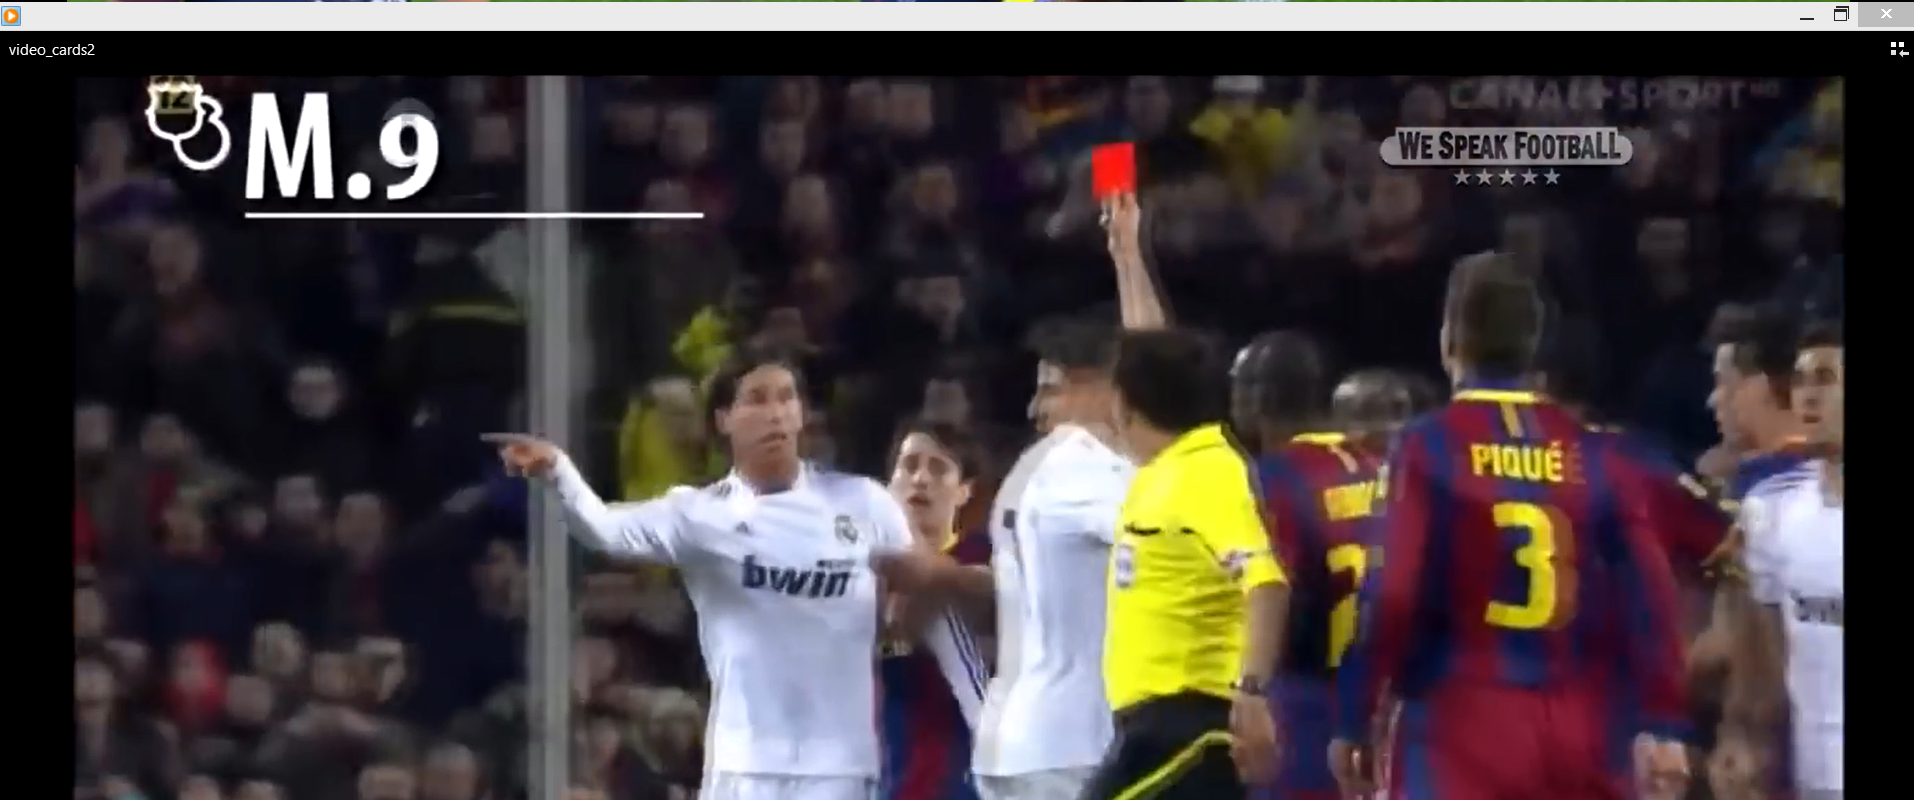red_card: (1077, 133, 1150, 241)
